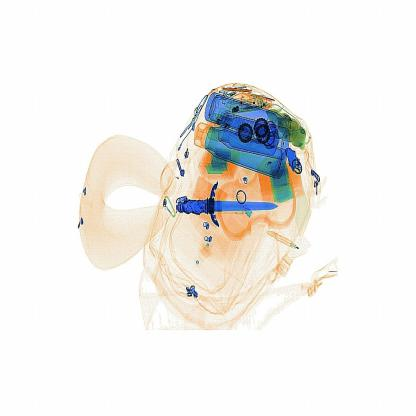wrench: (170, 186, 294, 233)
